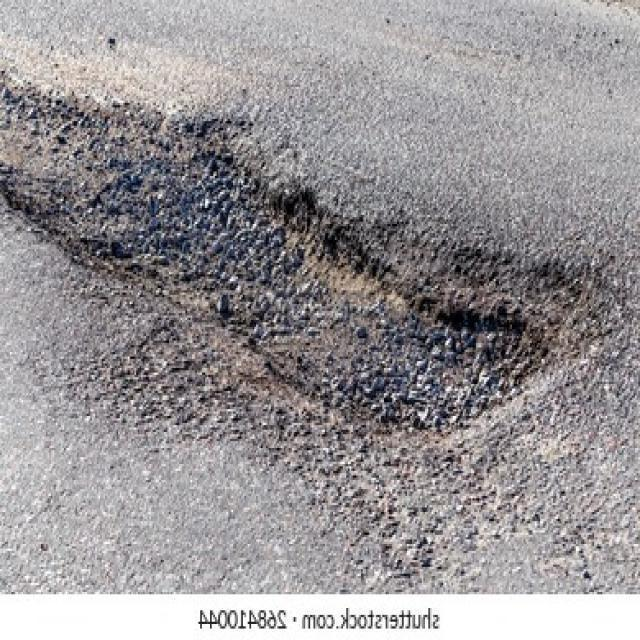Pothole: (2, 83, 627, 450)
